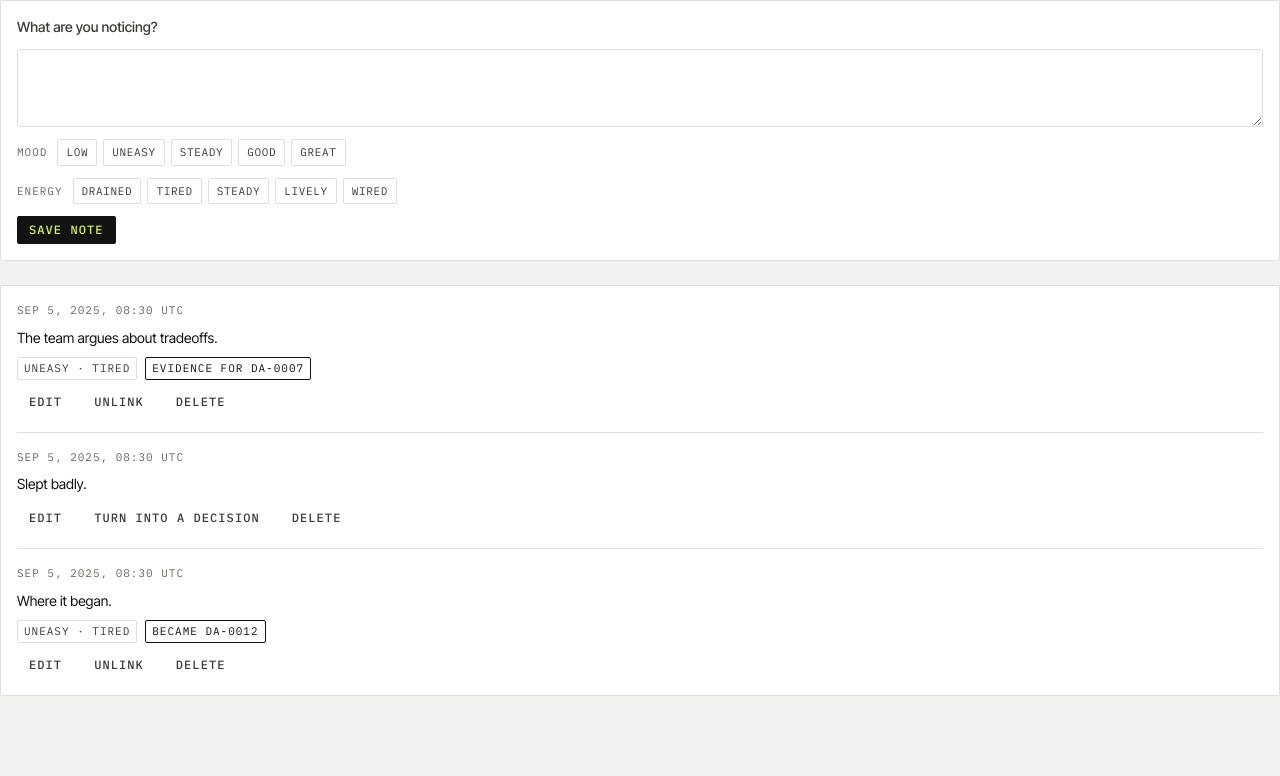
Test case: NotesFeed › edits a note inline
The width and height of the screenshot is (1280, 776).
Click the button "Edit" below "Slept badly." at (46, 518), box [17,504,74,532]
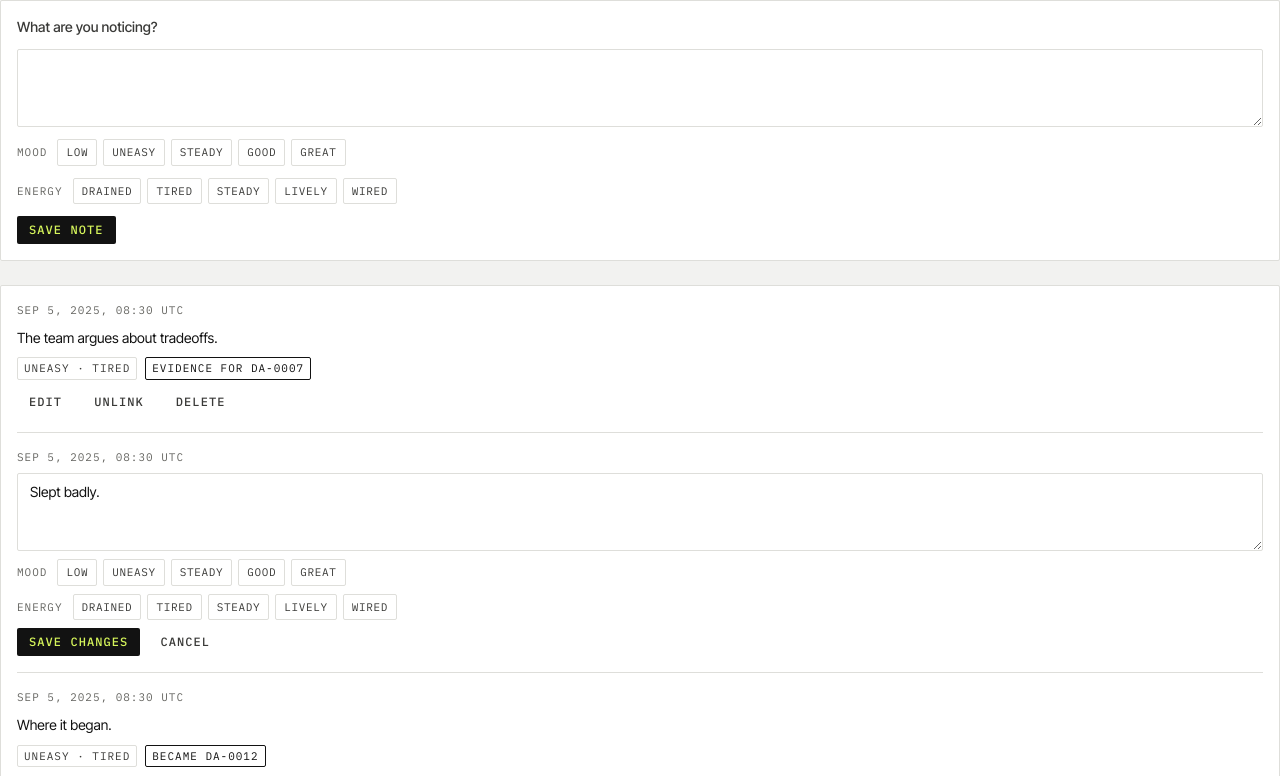
Replace the text in the text box named "Edit note" with "Slept well, actually." at (640, 512), box [17,473,1263,551]
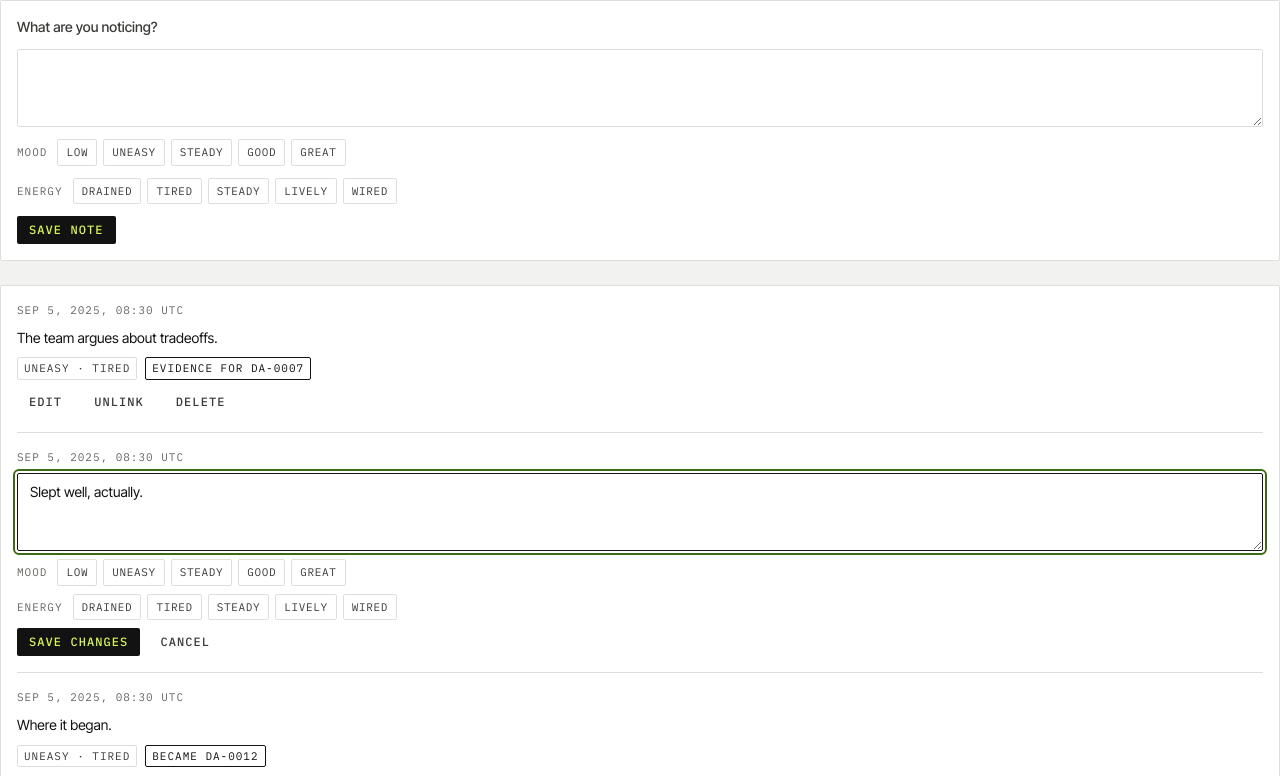
Click the button "Save changes" at (79, 642), box [17,628,140,656]
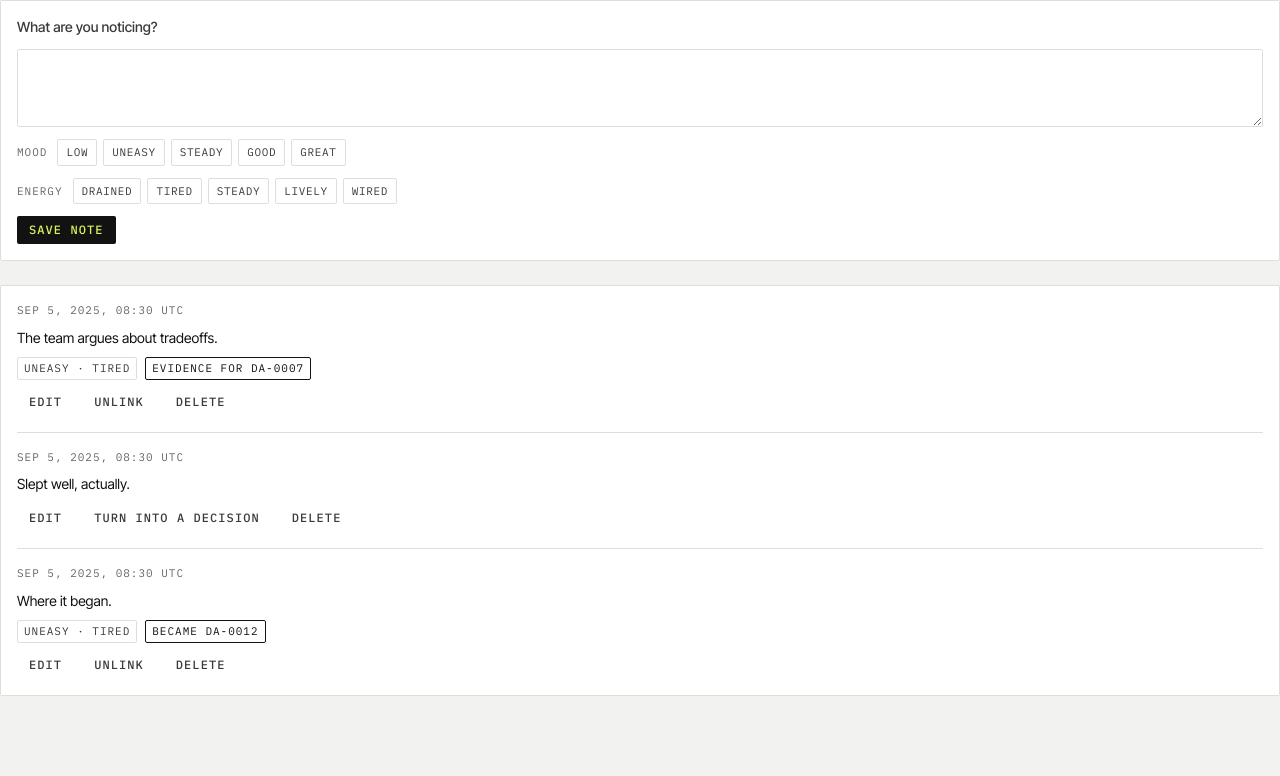
Now the text "Slept well, actually." is shown, box [17,475,130,492]
